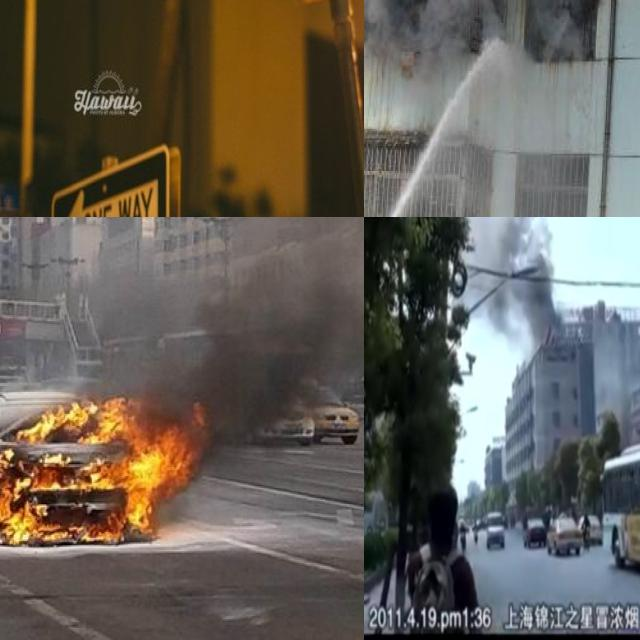fire: (0, 390, 209, 543)
smoke: (73, 217, 364, 435), (364, 0, 625, 65), (458, 217, 556, 342)
